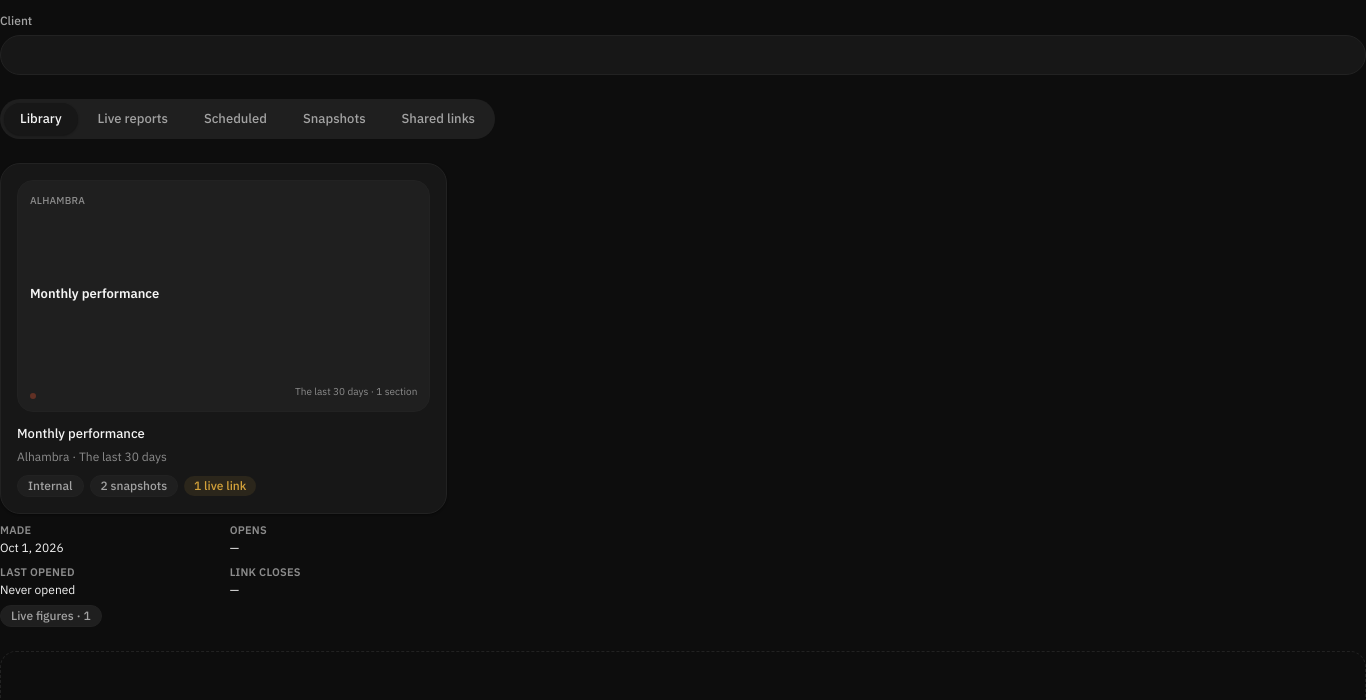
Scenario: editing one in the full editor › asks for dates only for a specific period
This screenshot has width=1366, height=700.
Click the button "Monthly performance": (224, 338) [0,163,447,514]
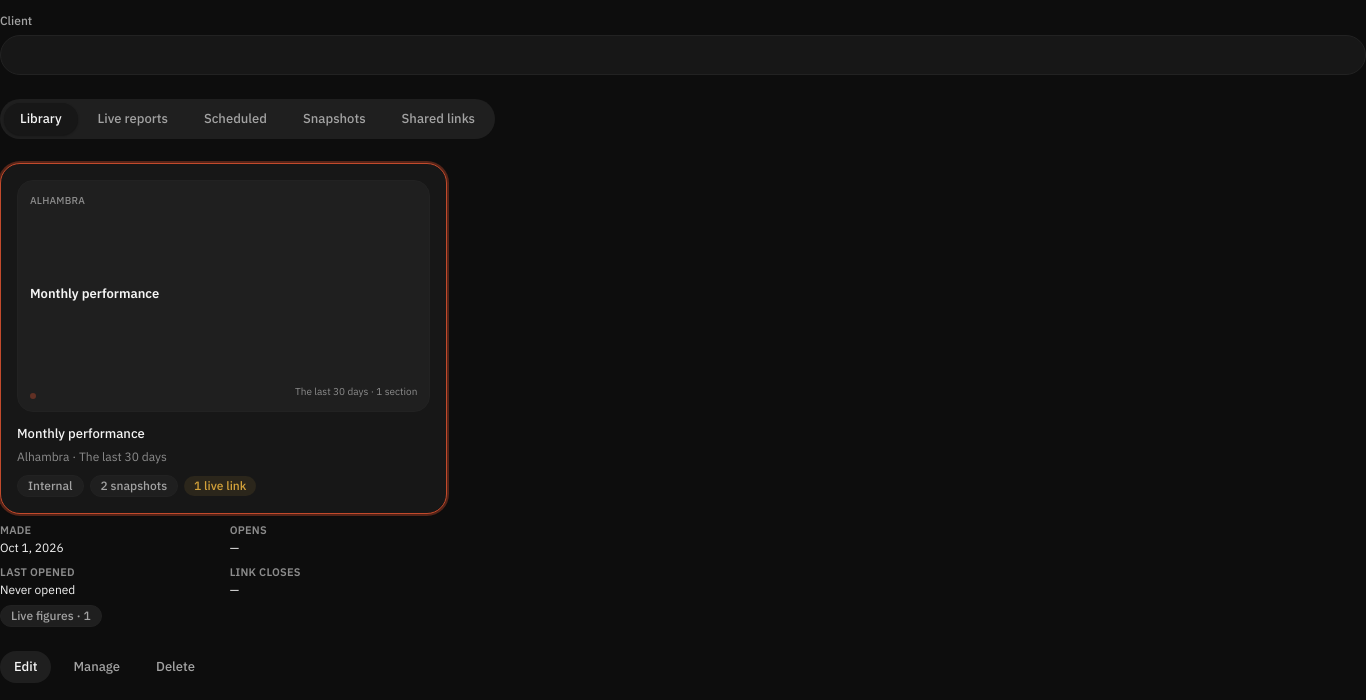
Click the button "Edit": (26, 667) [0,651,52,683]
(page scrolled)
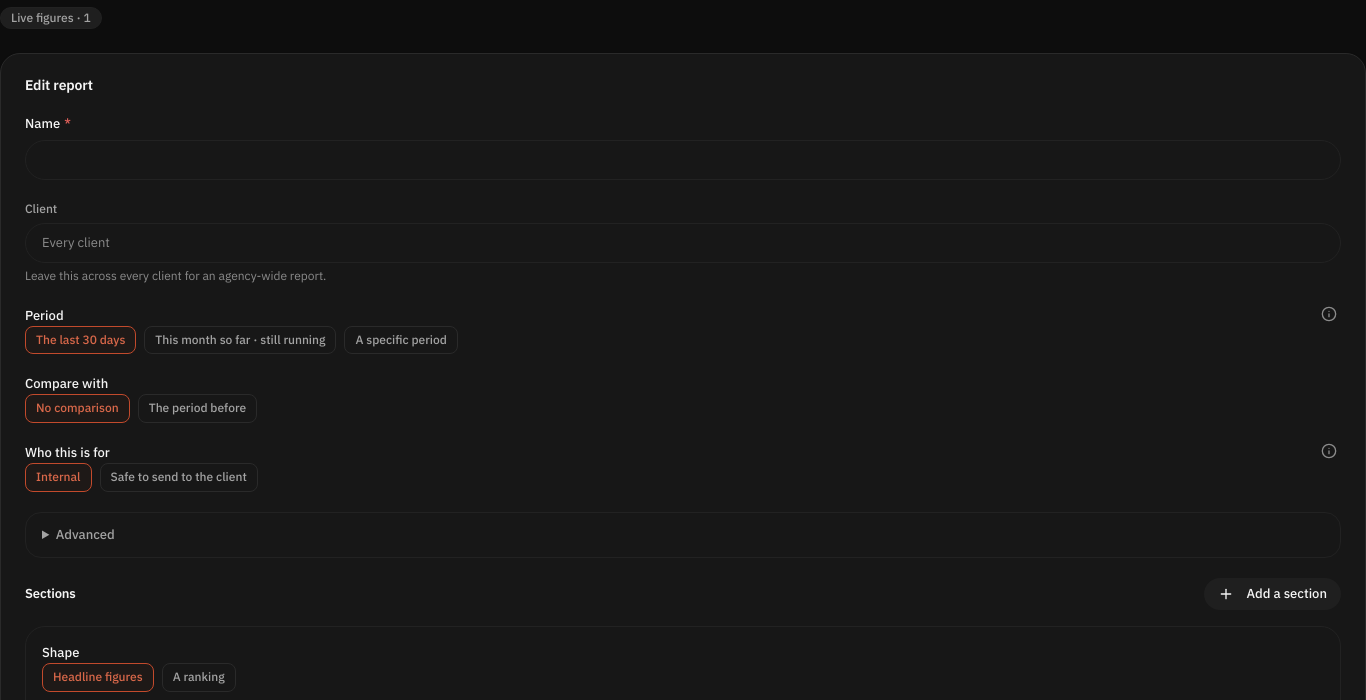
Expected: the field labelled "From" is not shown
Click the button "A specific period": (401, 340) [344,326,458,354]
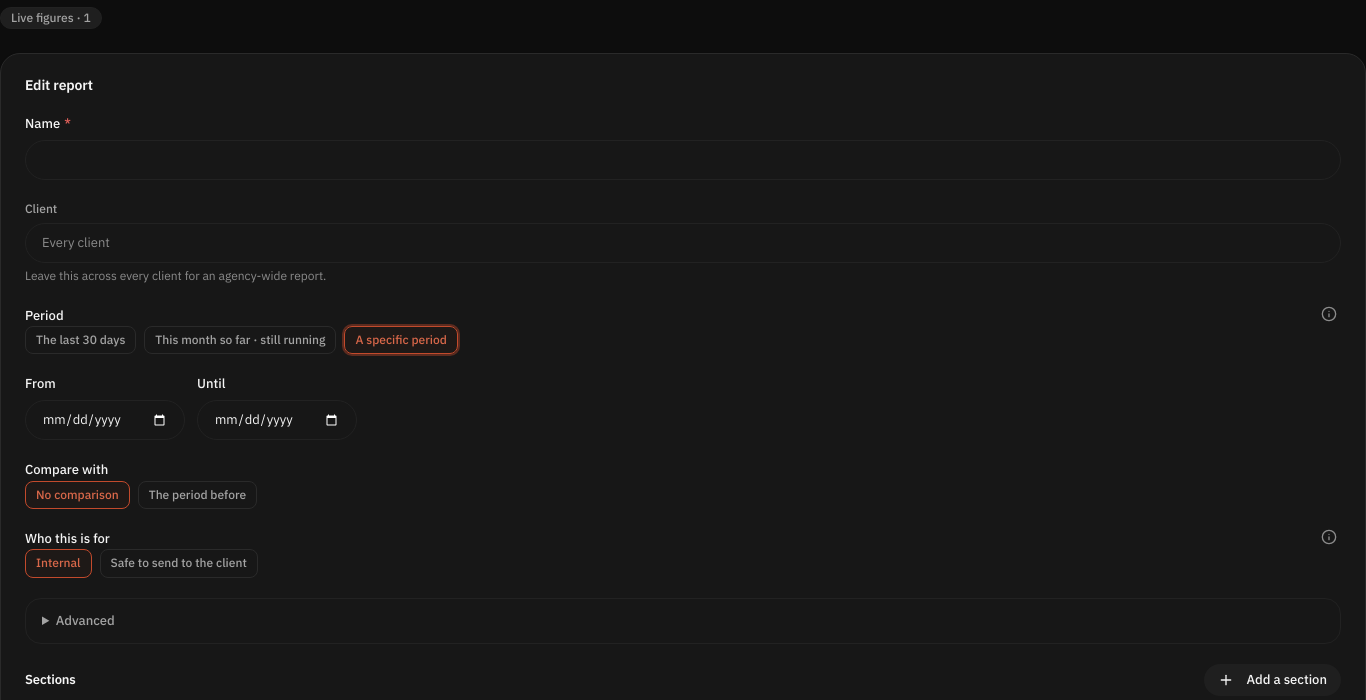
Now the date field labelled "From" is shown, box [25,400,185,440]
Now the date field labelled "Until" is shown, box [197,400,357,440]
